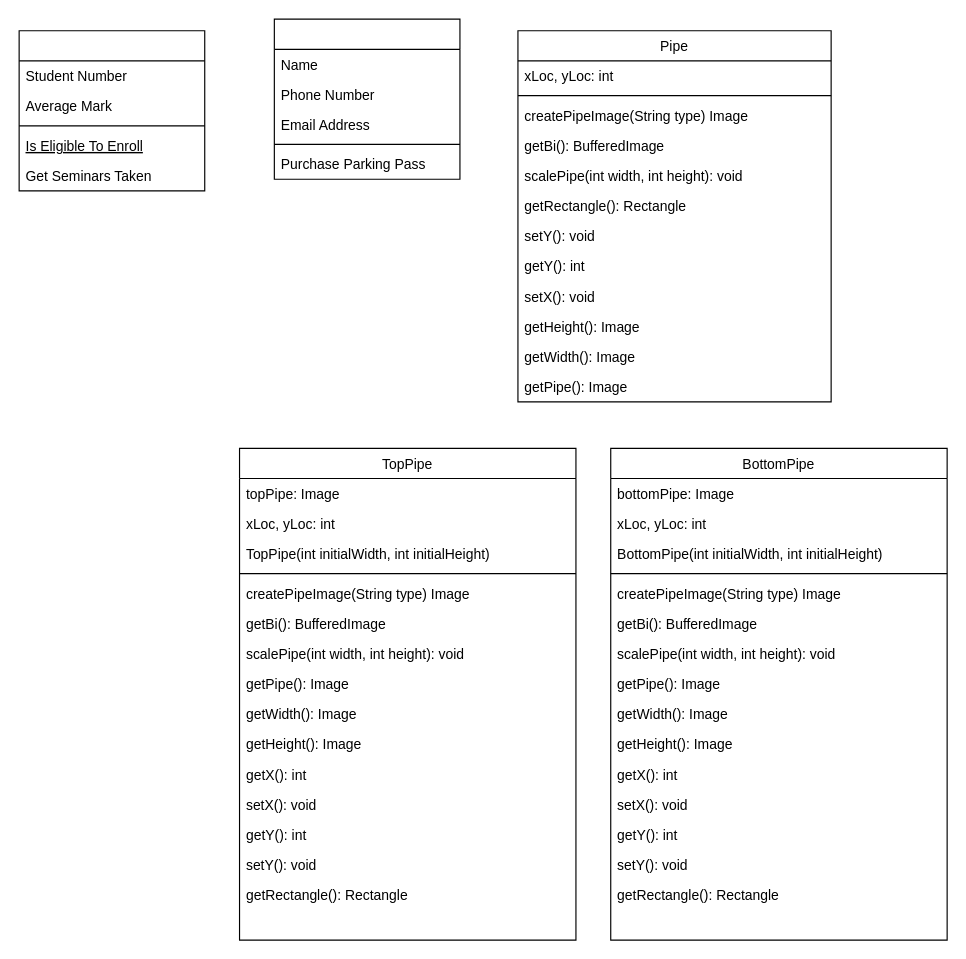
Some shapes in this 966 by 959 pixel diagram are drawn without their labels. The box of each missing label's shape, as (x1, y1, x2, y2) in pixels:
Bird: (18, 30, 205, 191)
TopClass: (273, 18, 460, 179)
